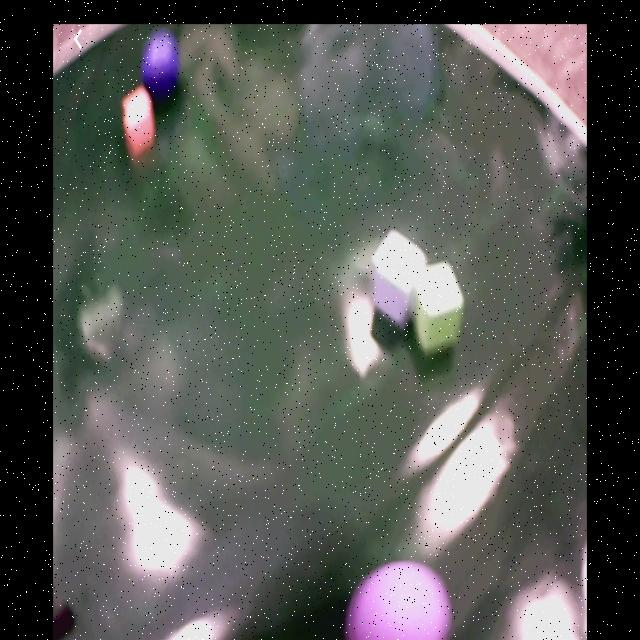ball: (349, 560, 452, 640), (144, 32, 180, 103)
